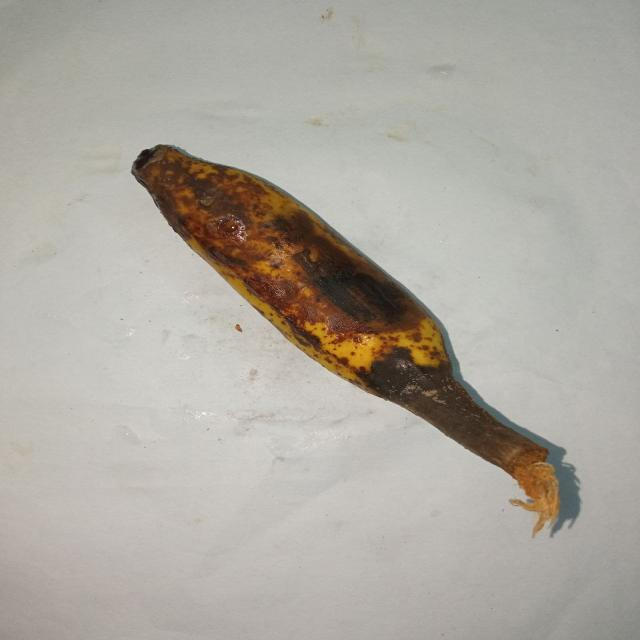rotten_banana: (132, 145, 546, 476)
